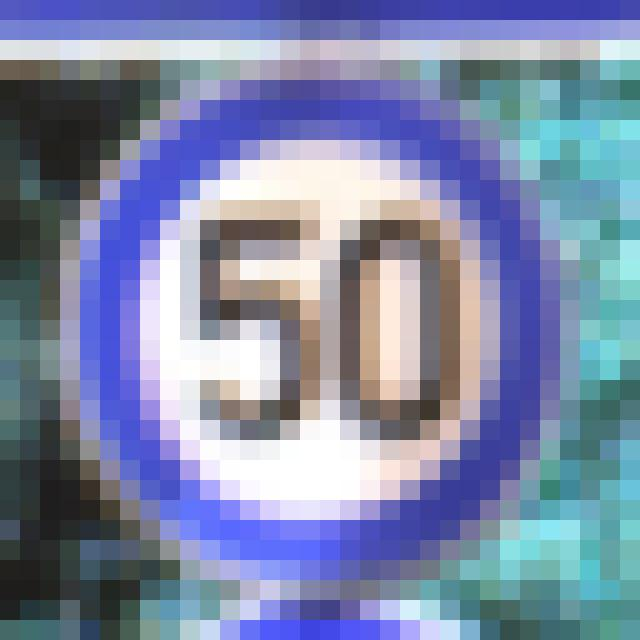SPEED LIMIT 50: (114, 132, 532, 530)
